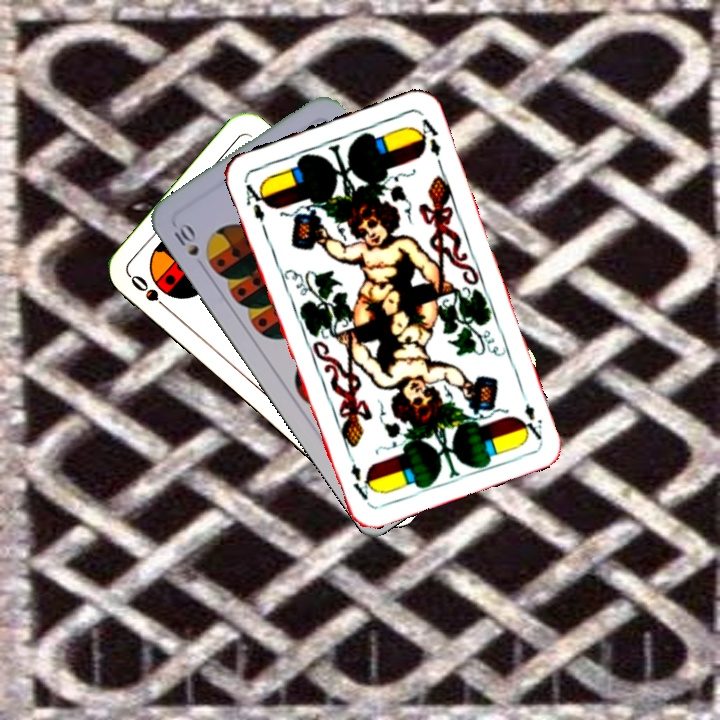EA: (516, 385, 545, 443), (240, 176, 271, 224)
S10: (170, 218, 209, 273)
SO: (126, 271, 175, 315)
